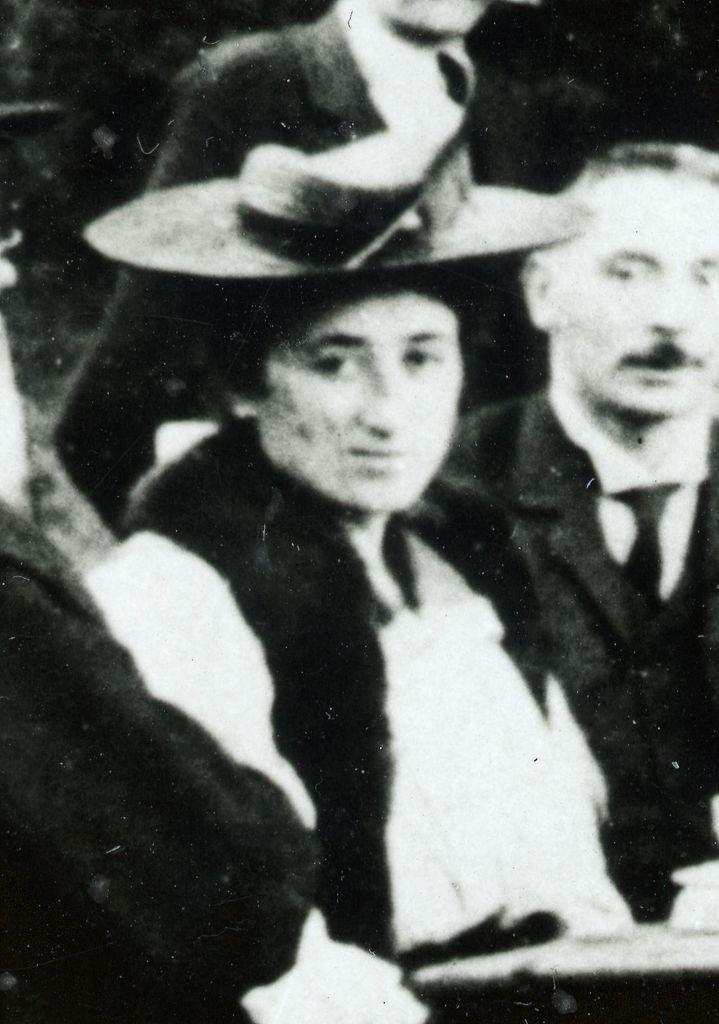Hat: (82, 45, 593, 271)
